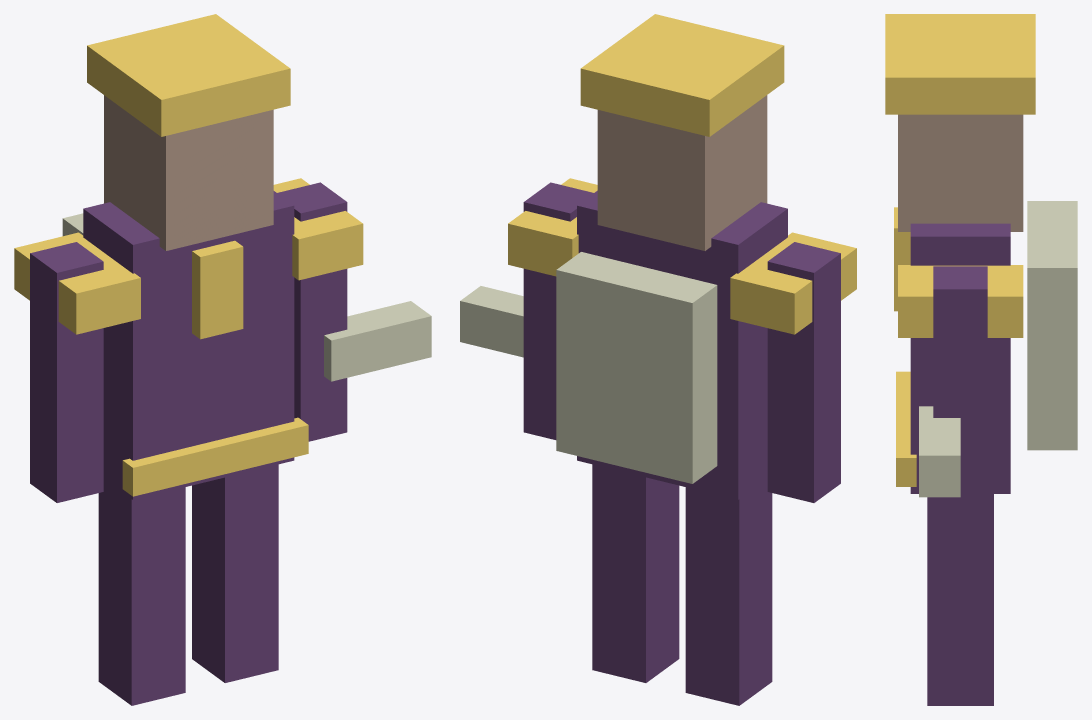
The model's file is 17_kiva_gearmantle_smith_at_drone.glb.
3 views of the same model, side by side, from view 1: azimuth 30°, elevation 25°; view 2: azimuth 150°, elevation 25°; view 3: azimuth 270°, elevation 25° (orthographic).
Visible parts, largest first — view 1: Kiva Gearmantle, Smith at Drone; view 2: Kiva Gearmantle, Smith at Drone; view 3: Kiva Gearmantle, Smith at Drone.
Part boxes in pixels (x1,y1,x2,y2): Kiva Gearmantle, Smith at Drone: [14, 14, 431, 705]; Kiva Gearmantle, Smith at Drone: [460, 14, 856, 705]; Kiva Gearmantle, Smith at Drone: [885, 14, 1077, 705].
Bounding box in the file's own units: 1.05 × 1.69 × 0.4708.
